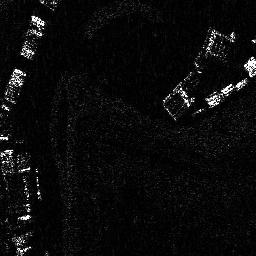ship: (1, 67, 27, 120), (19, 13, 47, 59)
